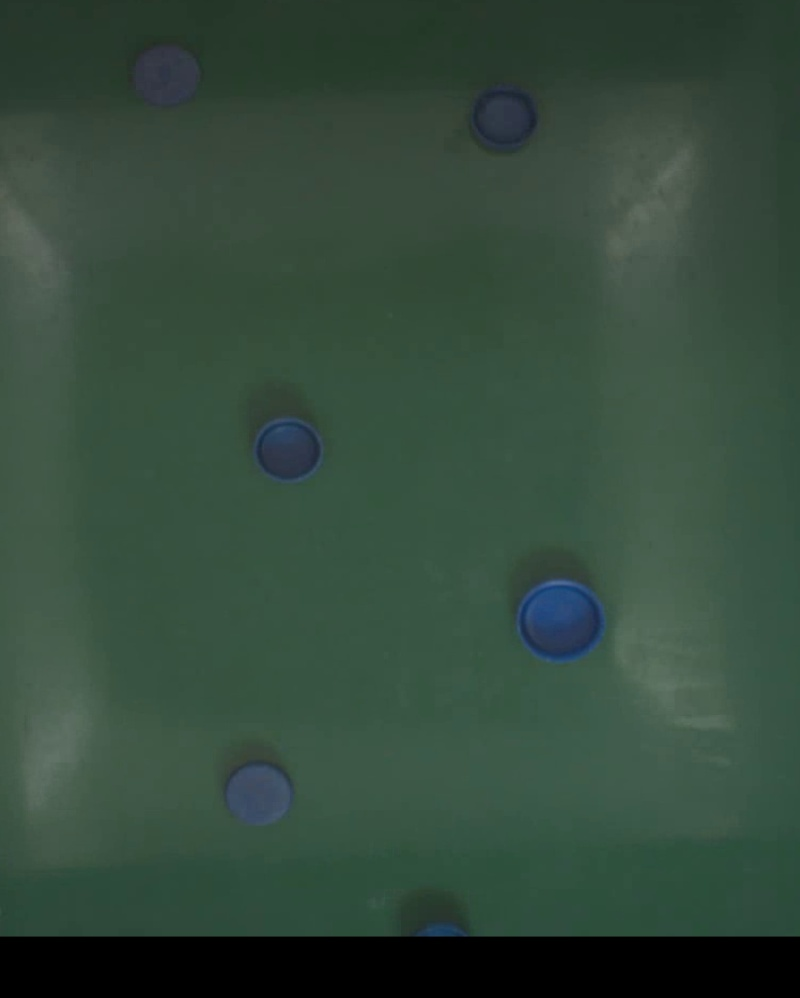Dark Blue: (516, 578, 605, 663), (470, 83, 538, 153), (254, 416, 323, 483), (131, 42, 201, 108), (224, 762, 294, 826)
